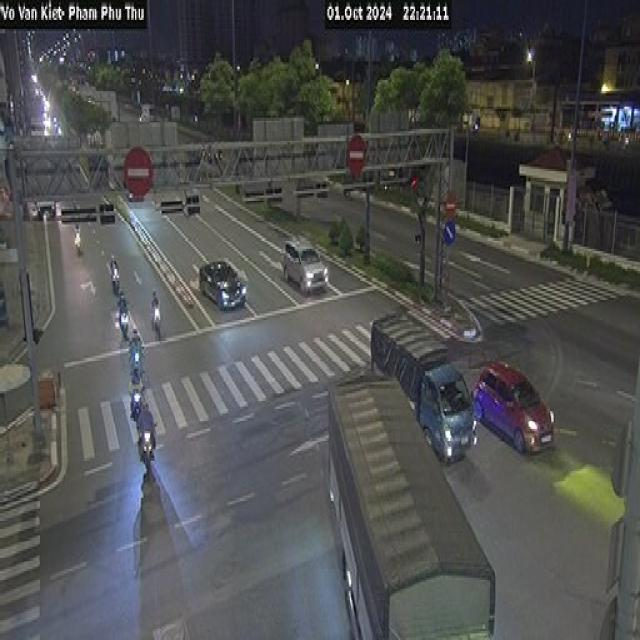car: (471, 358, 554, 453), (280, 238, 329, 296), (198, 258, 248, 311)
motorcycle: (136, 420, 156, 473)
truck: (313, 376, 502, 640), (372, 301, 478, 468)
